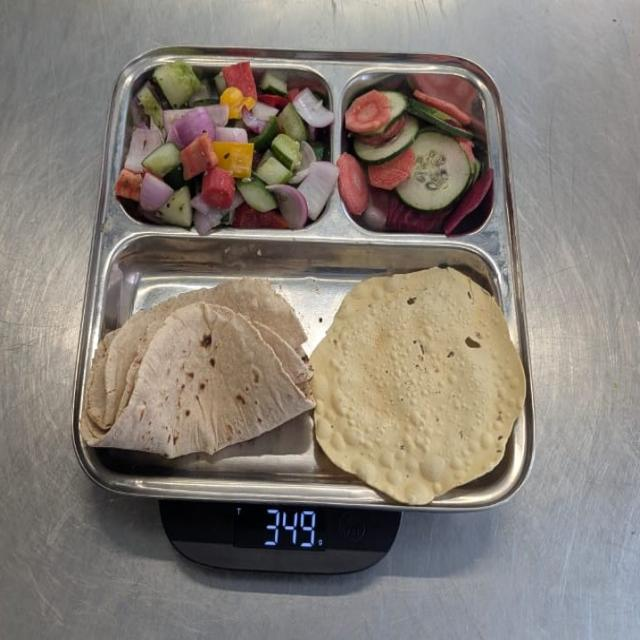Chapati: (86, 286, 312, 465)
Papad: (310, 267, 530, 505)
Salad: (114, 56, 338, 232), (339, 61, 496, 240)
